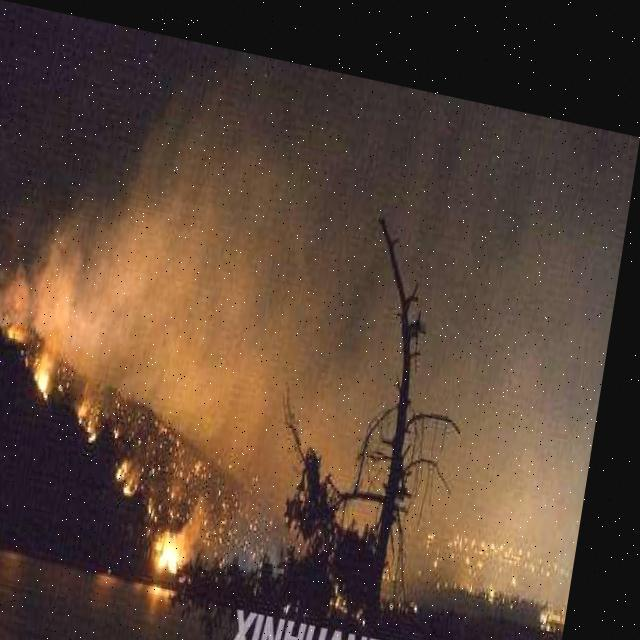Fire: (168, 508, 210, 570), (42, 340, 64, 394), (16, 312, 36, 344)
